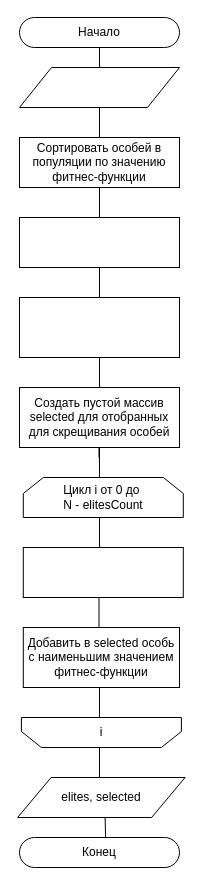
Image size: 203x885. Some labels were removed from this diagram. The centre of each missing label's shape, as x and y in pixels:
elitesCount = E * 100 / N: (99,242)
population, N, E, T: (99,87)
Выбрать случайно T особей в population: (102,572)
Создать массив elites из E первых особей в population: (99,327)
